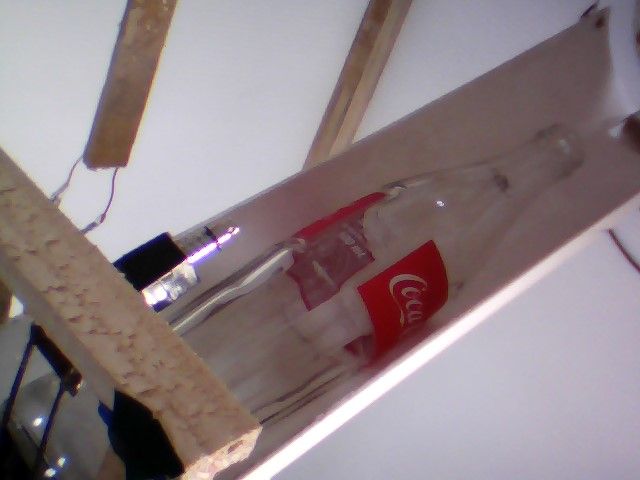vidrio: (175, 114, 602, 428)
